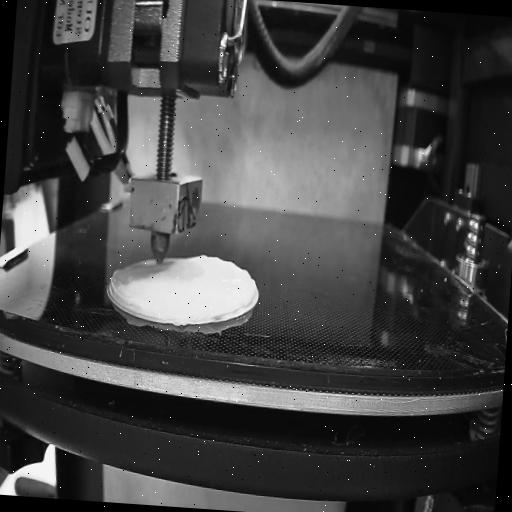over_extrusion: (189, 250, 260, 310), (107, 266, 138, 310)
